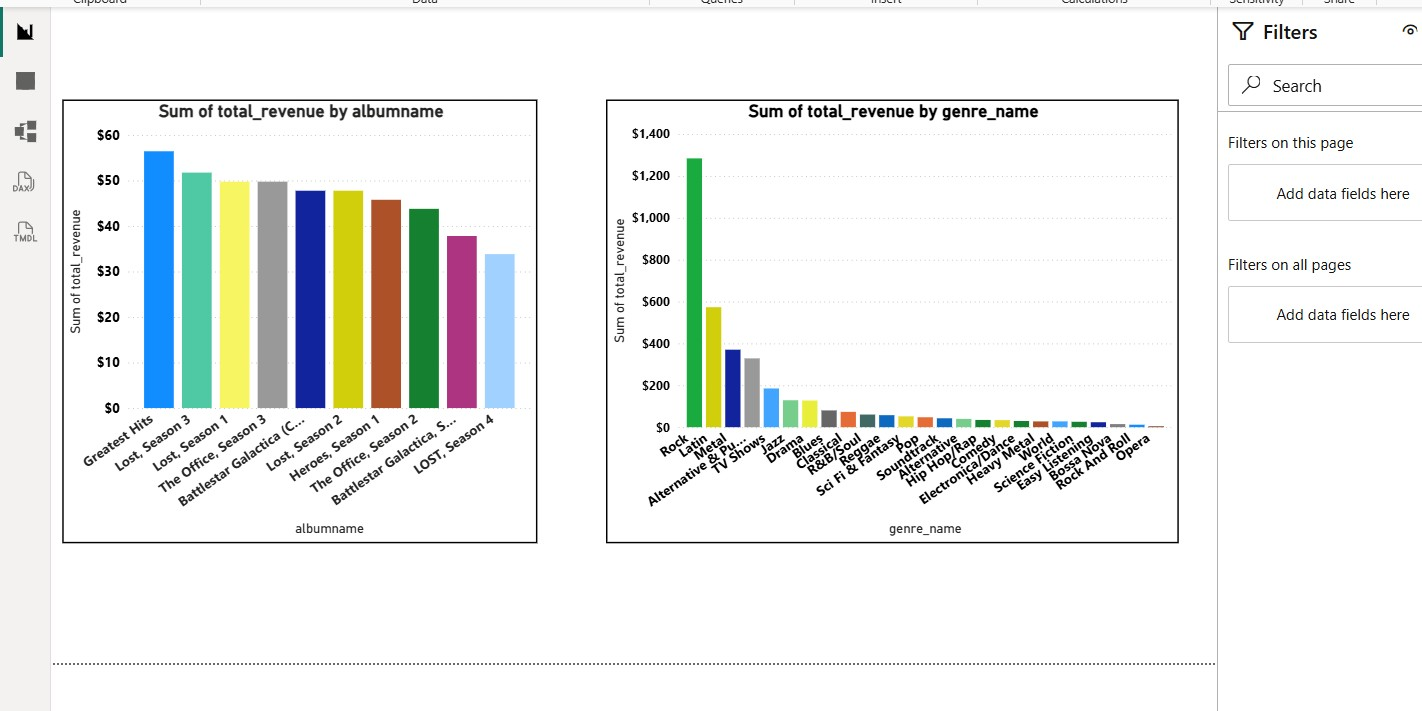

Layout of this report page (visuals, bound fields, positions):
{"tool":"powerbi","page":{"name":"Page 3","canvas":[1280,720],"ordinal":2},"visuals":[{"type":"columnChart","fields":{"Y":["Sum(public album_total_revenue_view.total_revenue)"],"Category":["public album_total_revenue_view.albumname"]},"box":[12.3,101.5,521.4,487.1],"z":0},{"type":"columnChart","fields":{"Category":["public genre_total_revenue_view.genre_name"],"Y":["Sum(public genre_total_revenue_view.total_revenue)"]},"box":[609.3,101.5,628.5,487.1],"z":1}]}

Visuals, with their boxes on the page's 1280x720 design canvas (x1, y1, x2, y2). These are canvas units, not pixel positions in the 1422x711 screenshot, which may show the page scaled, cropped or inside an application window:
columnChart - Sum(public album_total_revenue_view.total_revenue) x public album_total_revenue_view.albumname: <box>12,102,534,589</box>
columnChart - public genre_total_revenue_view.genre_name x Sum(public genre_total_revenue_view.total_revenue): <box>609,102,1238,589</box>
